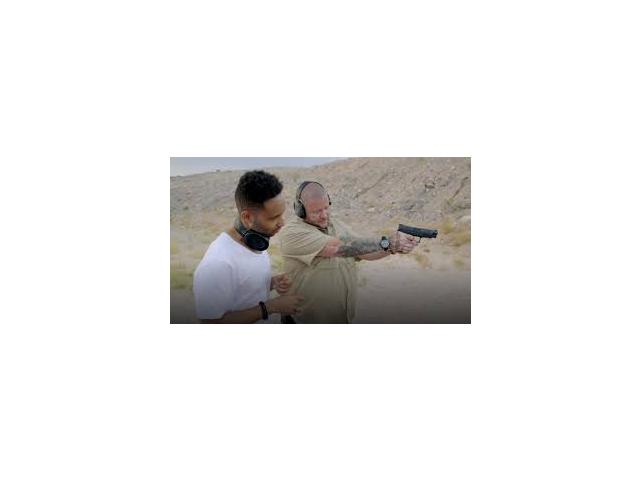pistol: (391, 222, 440, 256)
